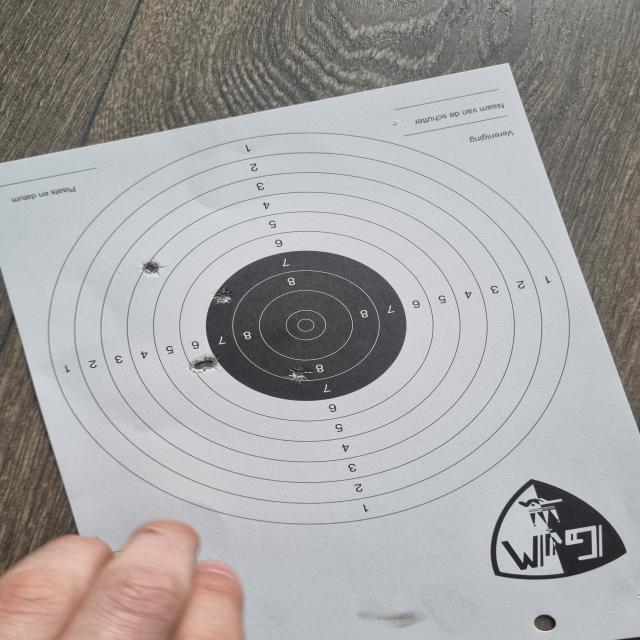5: (141, 260, 166, 276)
7: (188, 360, 202, 372)
8: (213, 288, 236, 304), (202, 354, 218, 370)
9: (286, 366, 312, 383)
Black Contour: (210, 247, 406, 403)
Target: (43, 130, 577, 526)
